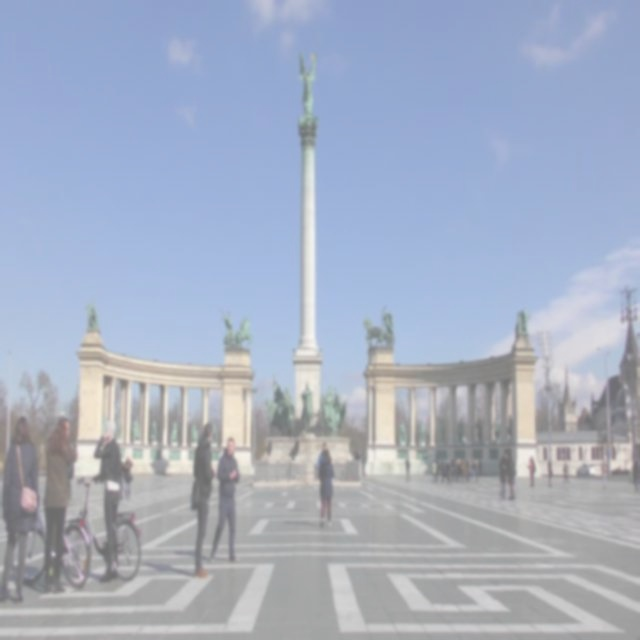pessoa: (0, 412, 40, 606), (41, 417, 79, 596), (265, 369, 348, 439), (92, 416, 124, 584), (188, 420, 218, 580), (207, 434, 242, 564), (217, 305, 252, 352), (317, 446, 335, 530), (296, 45, 318, 112), (451, 453, 484, 484), (380, 303, 396, 348), (498, 448, 510, 501), (122, 454, 134, 502), (506, 454, 518, 502), (513, 302, 531, 334), (84, 294, 98, 330), (316, 441, 328, 471), (129, 414, 141, 444), (118, 454, 125, 502), (598, 454, 607, 490), (417, 417, 427, 448), (632, 454, 640, 492), (436, 414, 446, 444), (455, 414, 465, 444), (491, 412, 501, 442), (473, 414, 483, 442), (149, 413, 158, 444), (189, 417, 199, 443), (526, 456, 534, 488), (113, 414, 122, 442), (169, 418, 178, 446), (398, 418, 407, 446), (562, 456, 570, 486), (444, 458, 452, 486), (546, 456, 553, 488), (438, 456, 446, 483), (210, 420, 219, 444), (404, 454, 411, 484), (530, 454, 536, 486), (435, 456, 441, 483), (507, 410, 512, 442), (431, 458, 437, 484)
